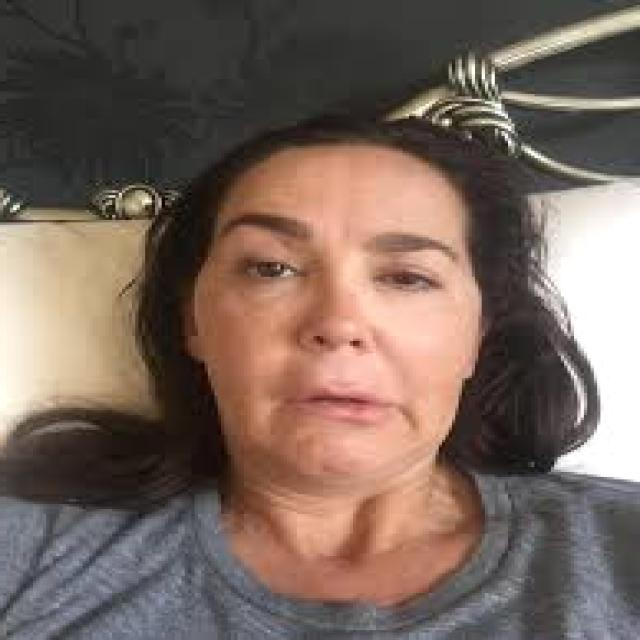stroke_face: (146, 153, 484, 501)
